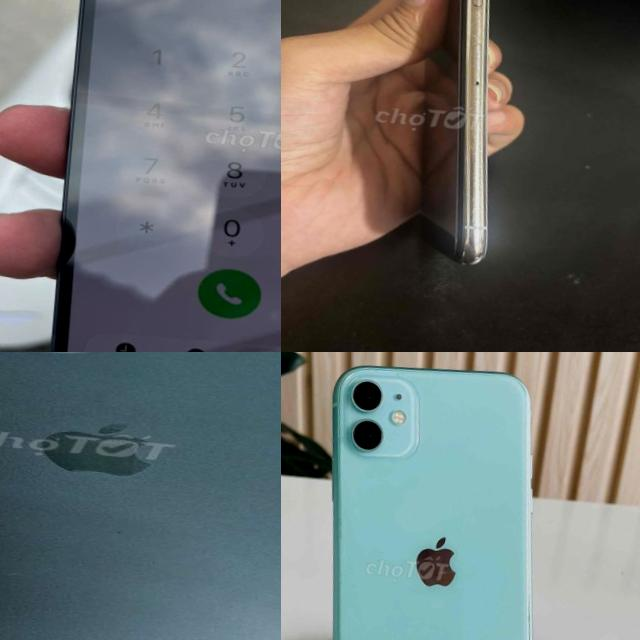scratch: (431, 0, 516, 263), (367, 364, 401, 378), (511, 381, 531, 402)
